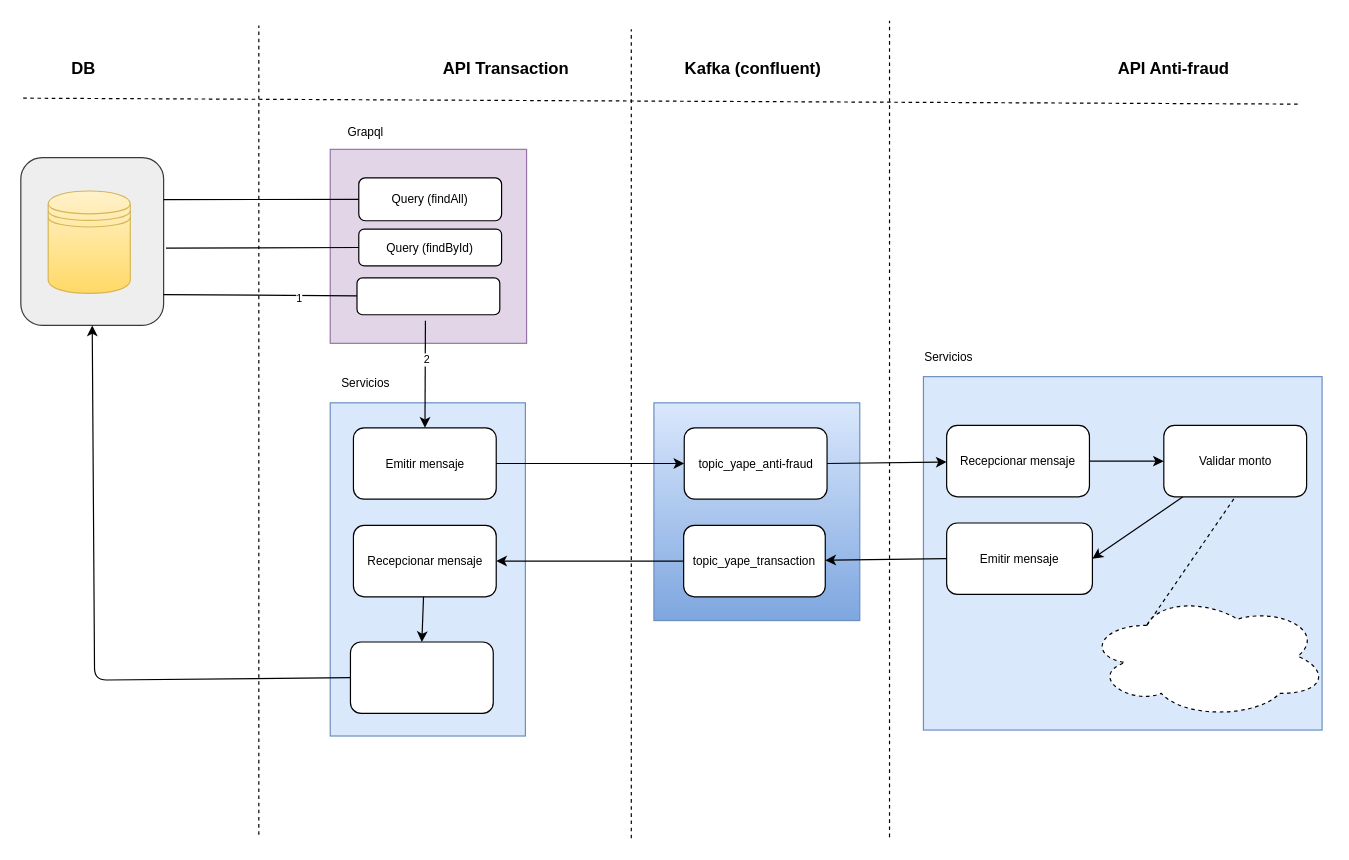
Image size: 1349x860. Some labels were removed from this diagram. Each missing label, with the centre of its shape:
Actualizar Status: (x=421, y=677)
mongo-yape: (x=88, y=241)
Monto <=0 || > 1000 => Status=3 (Rechazado) Monto <1000 => Status=2 (Aprobado): (x=1206, y=655)
Mutation (save transaction): (x=428, y=296)
